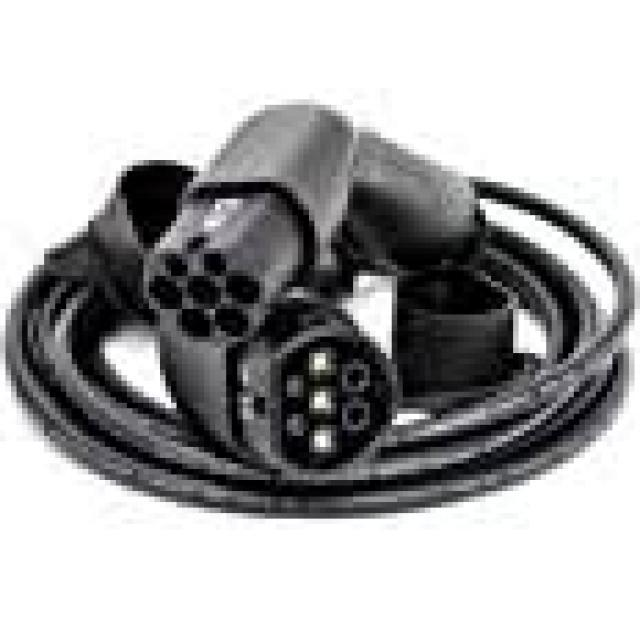Type 2: (225, 320, 424, 497)
